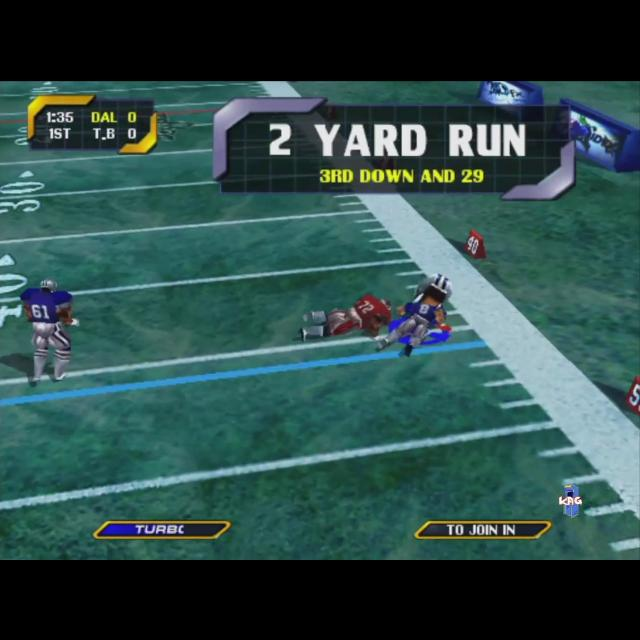player: (18, 277, 78, 385), (377, 272, 453, 356), (298, 292, 390, 340)
